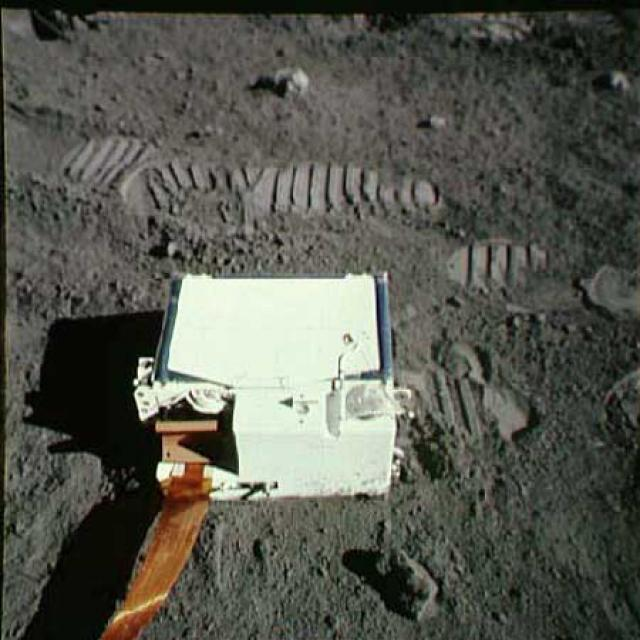artifact: (106, 246, 440, 639)
rock: (373, 518, 438, 614), (255, 61, 315, 102)
